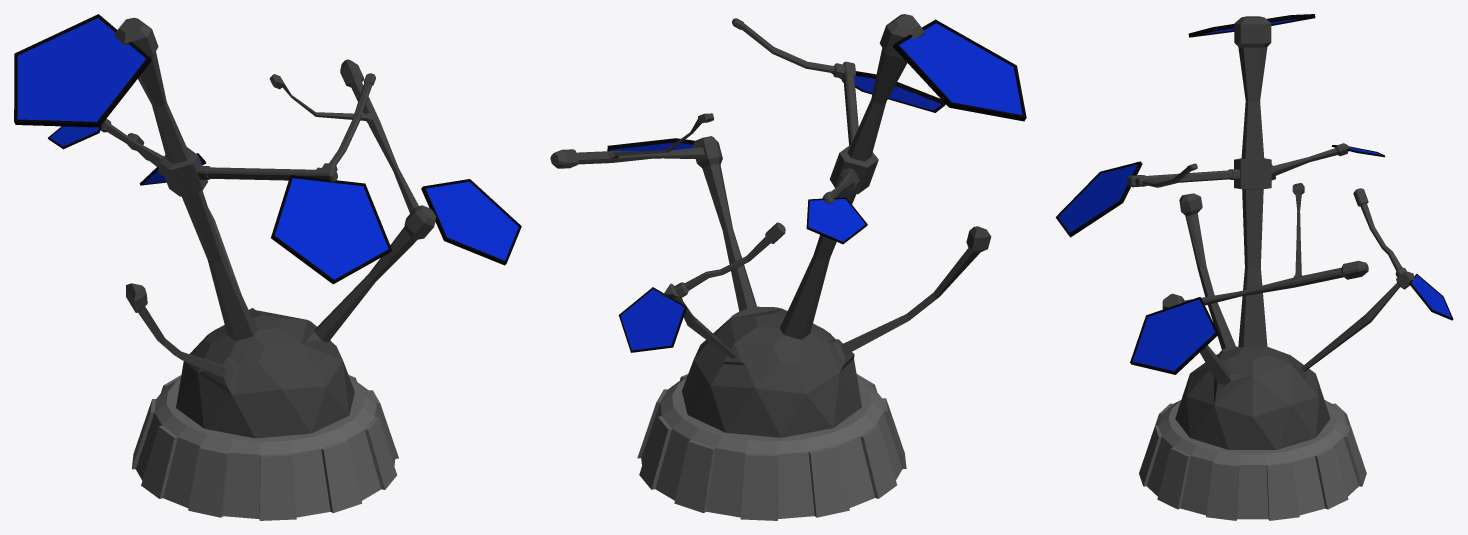
Rendered from Arbre1.fbx.
3 views of the same model, side by side, from view 1: azimuth 30°, elevation 25°; view 2: azimuth 150°, elevation 25°; view 3: azimuth 270°, elevation 25° (orthographic). The views are drawn at different scales.
Visible parts, largest first — view 1: Cylinder, PanneauxSolaires, Branches, Boule, Bordure; view 2: Cylinder, Branches, Boule, PanneauxSolaires, Bordure; view 3: Branches, Cylinder, Boule, PanneauxSolaires, Bordure.
Boxes of the visible parts, x1=… form: Cylinder: x1=132, y1=375, x2=398, y2=520; PanneauxSolaires: x1=17, y1=18, x2=518, y2=279; Branches: x1=100, y1=17, x2=435, y2=394; Boule: x1=176, y1=310, x2=354, y2=438; Bordure: x1=14, y1=14, x2=521, y2=284; Cylinder: x1=637, y1=374, x2=906, y2=520; Branches: x1=550, y1=14, x2=991, y2=371; Boule: x1=682, y1=308, x2=861, y2=437; PanneauxSolaires: x1=610, y1=23, x2=1022, y2=350; Bordure: x1=607, y1=19, x2=1026, y2=352; Branches: x1=1127, y1=16, x2=1414, y2=404; Cylinder: x1=1139, y1=400, x2=1366, y2=520; Boule: x1=1175, y1=346, x2=1330, y2=449; PanneauxSolaires: x1=1058, y1=19, x2=1451, y2=370; Bordure: x1=1055, y1=14, x2=1453, y2=374.
Bounding box in the file's own units: 537 × 527 × 472.
